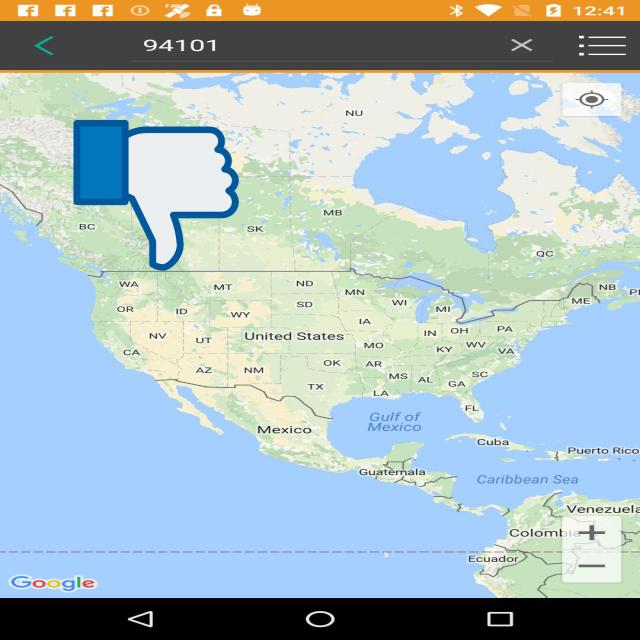obstruction: (73, 117, 239, 274)
